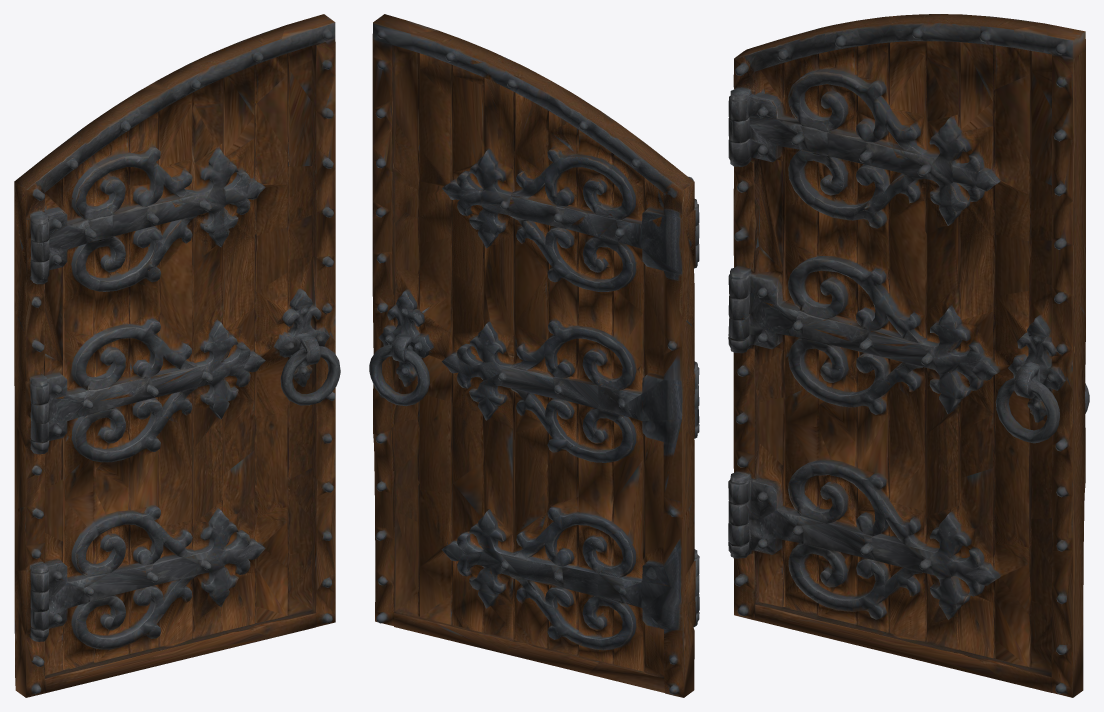
Rendered from door_leaf_ceremonial.glb.
3 renders of one model, left to right at view 1: azimuth 30°, elevation 25°; view 2: azimuth 150°, elevation 25°; view 3: azimuth 330°, elevation 25°, orthographic. The views are drawn at different scales.
Visible parts, largest first — view 1: door_leaf_ceremonial; view 2: door_leaf_ceremonial; view 3: door_leaf_ceremonial.
Boxes of the visible parts, x1,y1,x2,y2 form: door_leaf_ceremonial: (14, 14, 340, 697); door_leaf_ceremonial: (369, 14, 699, 697); door_leaf_ceremonial: (728, 14, 1089, 697).
Bounding box in the file's own units: 1.03 × 1.9 × 0.2001.
1 material, 1 textured.
